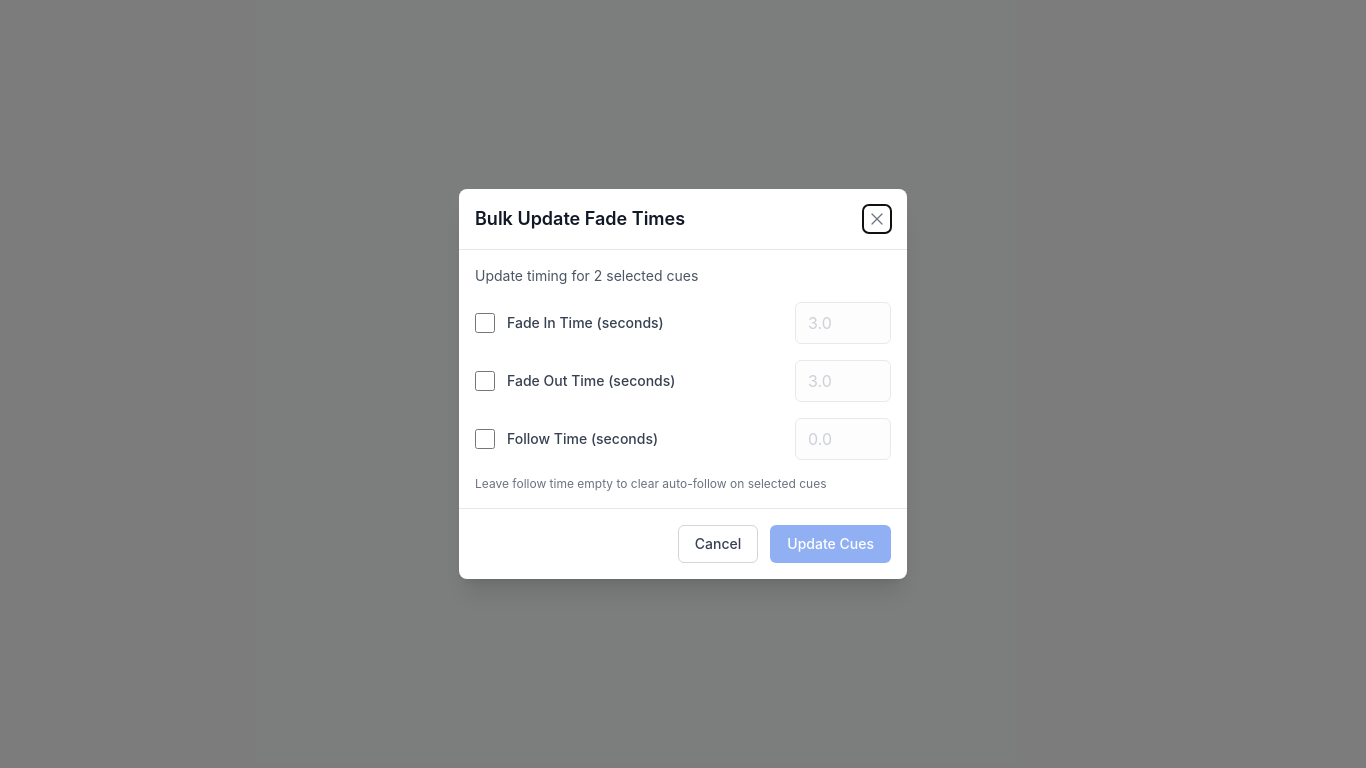
Test case: BulkFadeUpdateModal › form validation › shows error for negative fade in time
Click the checkbox labelled "Fade In Time (seconds)". click: (485, 323)
box: top-left (475, 313), bottom-right (495, 333)
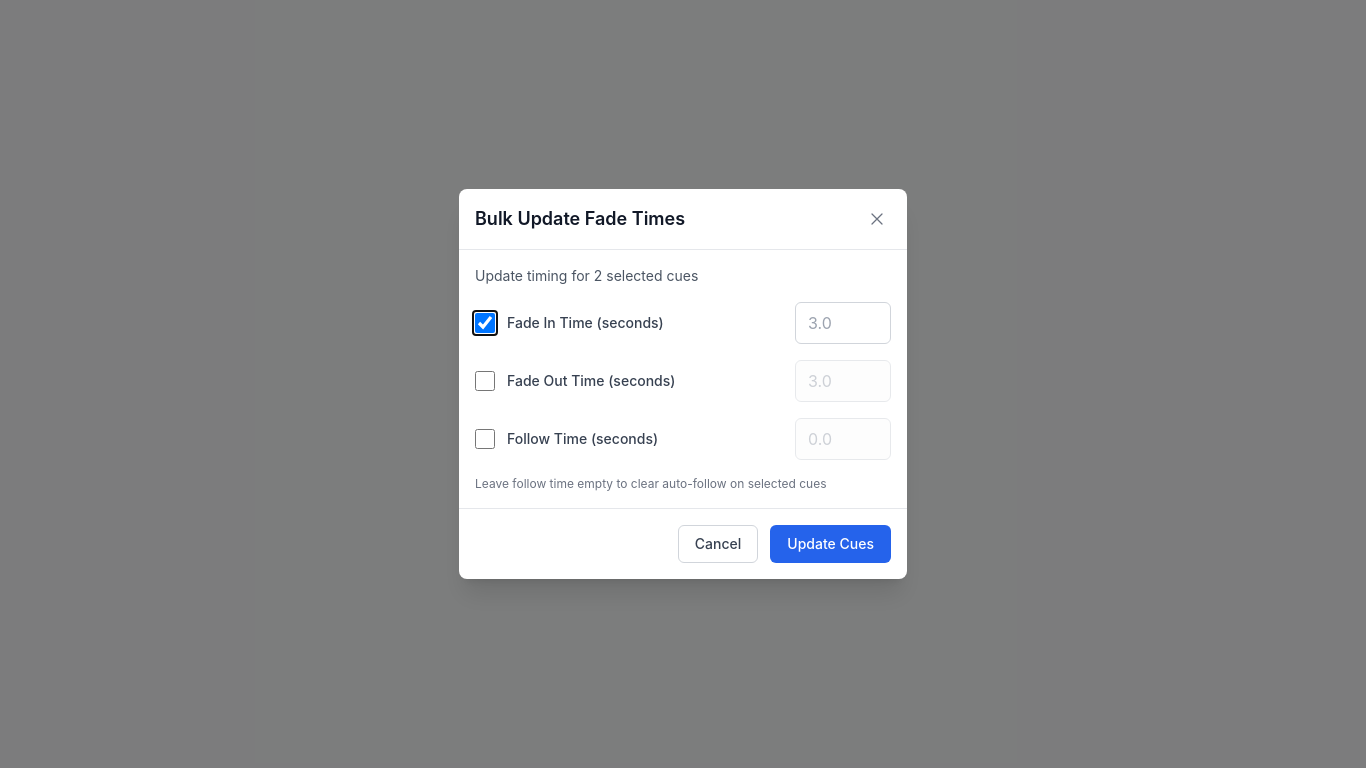
Type "-1" into the number field with placeholder "3.0" next to "Fade In Time (seconds)". click: (843, 323)
box: top-left (795, 302), bottom-right (891, 344)
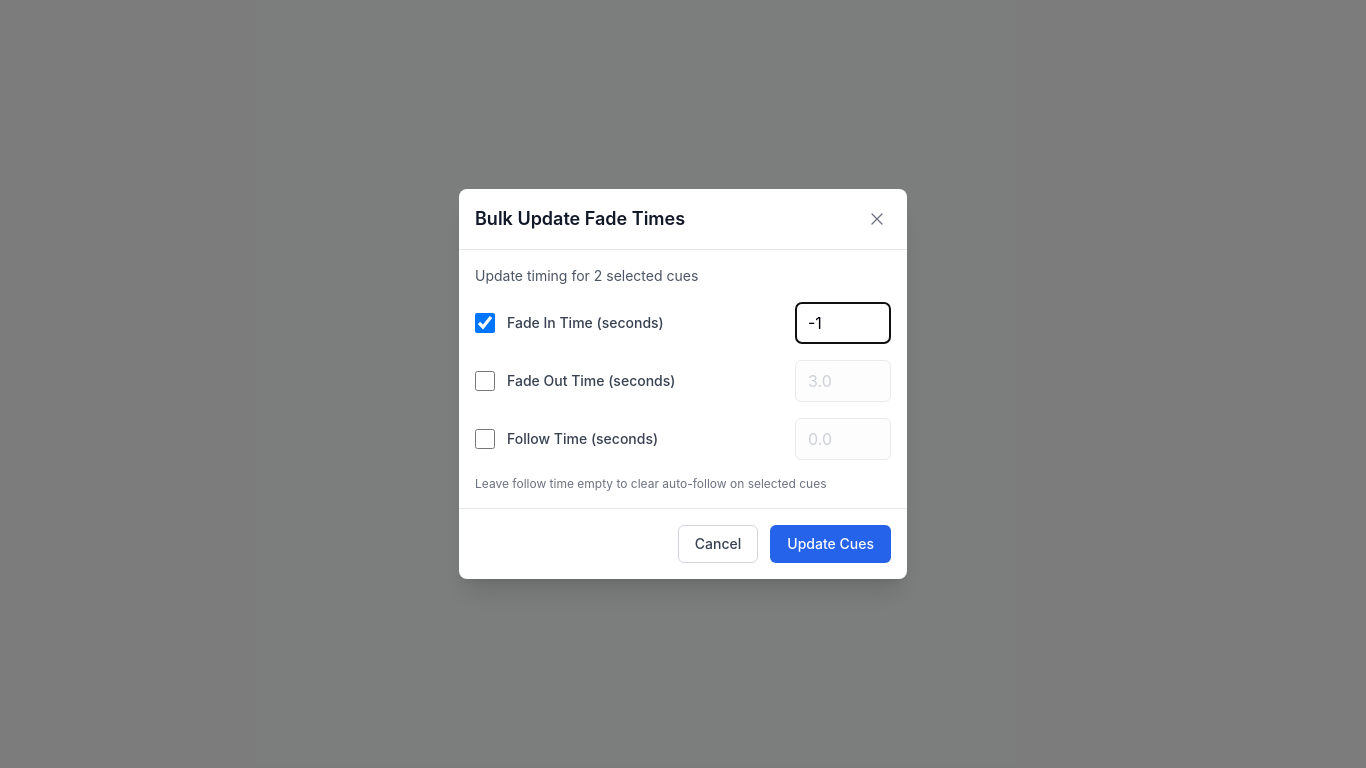
Submit the form with id "bulk-fade-update-form", box top-left (475, 266), bottom-right (891, 492)
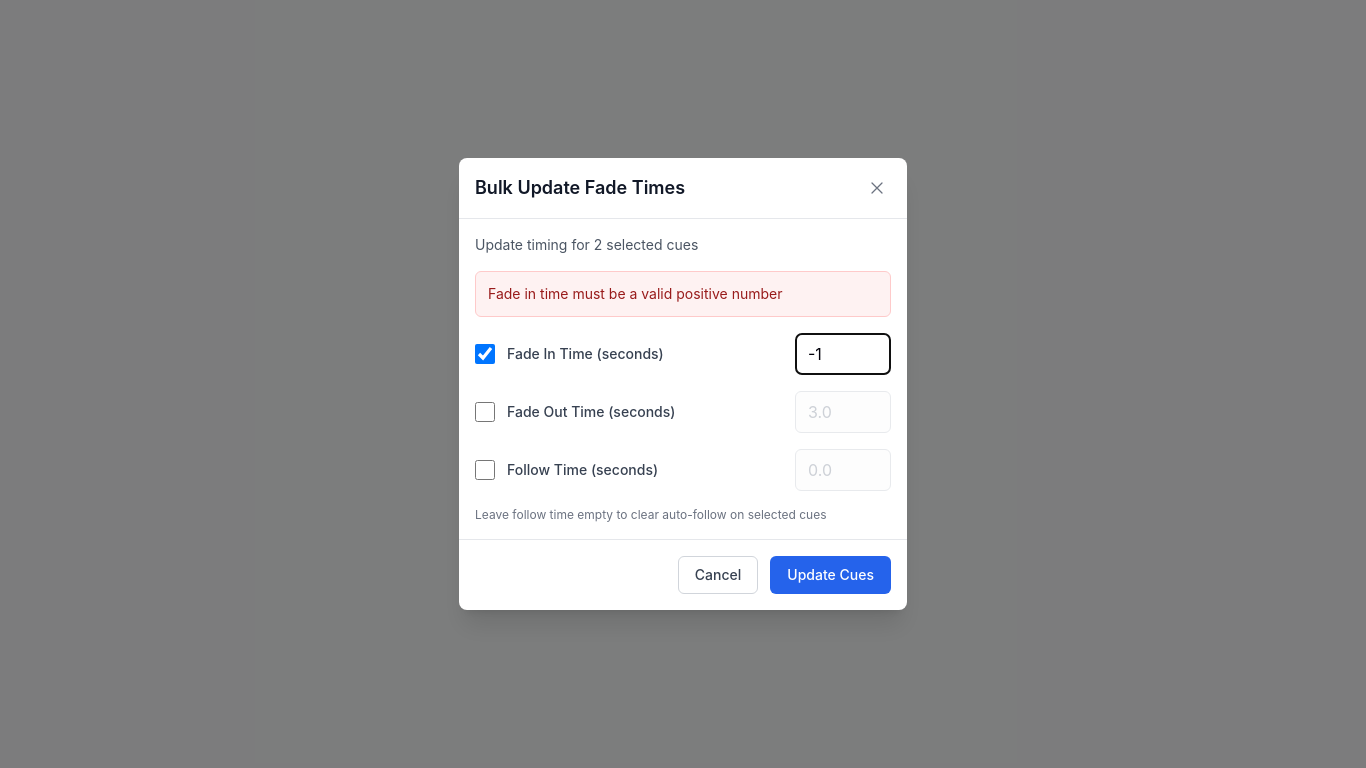
Expected: the text "Fade in time must be a valid positive number" is shown, top-left (488, 285), bottom-right (782, 302)
